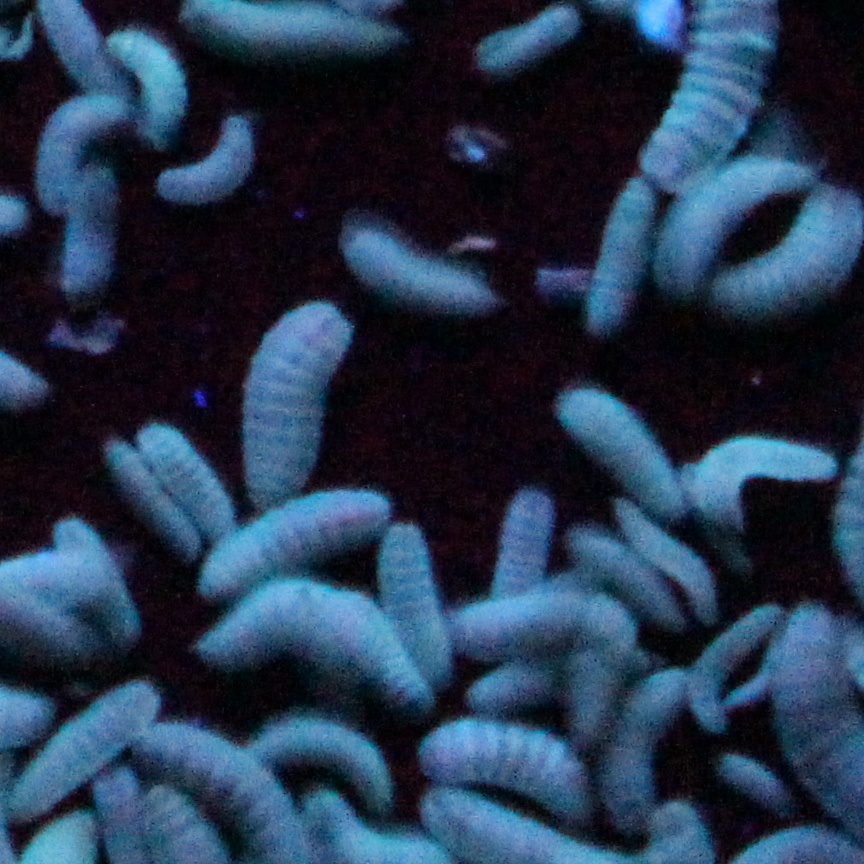larve: (205, 575, 428, 707), (653, 139, 821, 282), (235, 303, 357, 498), (198, 487, 400, 596), (3, 684, 166, 814), (555, 384, 698, 525), (337, 221, 521, 318), (419, 714, 600, 805), (230, 718, 400, 809), (675, 596, 778, 741), (603, 659, 685, 832), (98, 425, 205, 553), (137, 416, 241, 543), (46, 518, 148, 643), (689, 439, 837, 525), (378, 516, 446, 691), (580, 168, 648, 339), (153, 98, 262, 203), (435, 591, 641, 646), (616, 498, 712, 616), (35, 91, 121, 212), (50, 166, 130, 291), (107, 18, 185, 137), (566, 537, 671, 623), (482, 491, 562, 587), (473, 7, 578, 66), (714, 748, 798, 816), (469, 657, 557, 714)
